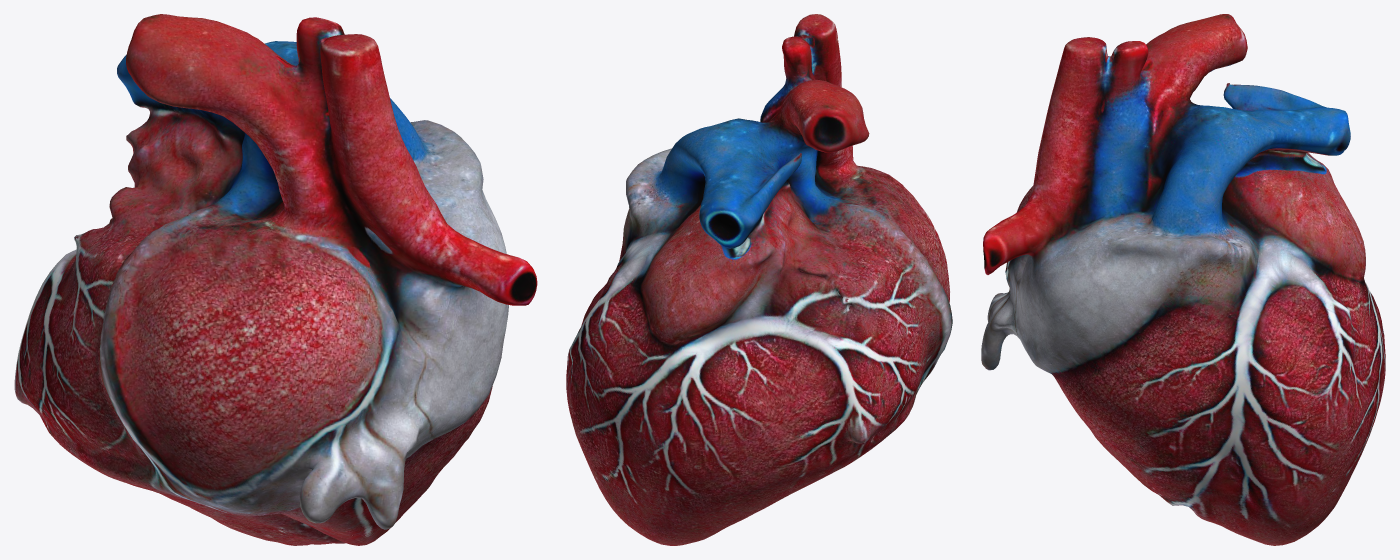
File: heart.glb
The picture shows the model from 3 angles, left to right: view 1: azimuth 30°, elevation 25°; view 2: azimuth 150°, elevation 25°; view 3: azimuth 270°, elevation 25°; orthographic projection. The views are drawn at different scales.
Visible parts, largest first — view 1: mesh; view 2: mesh; view 3: mesh.
Part boxes in pixels (<box>): mesh: <box>14,14,537,545</box>; mesh: <box>566,14,952,545</box>; mesh: <box>981,14,1385,545</box>.
Bounding box in the file's own units: 0.6795 × 0.9988 × 0.7748.
1 material, 1 textured.
